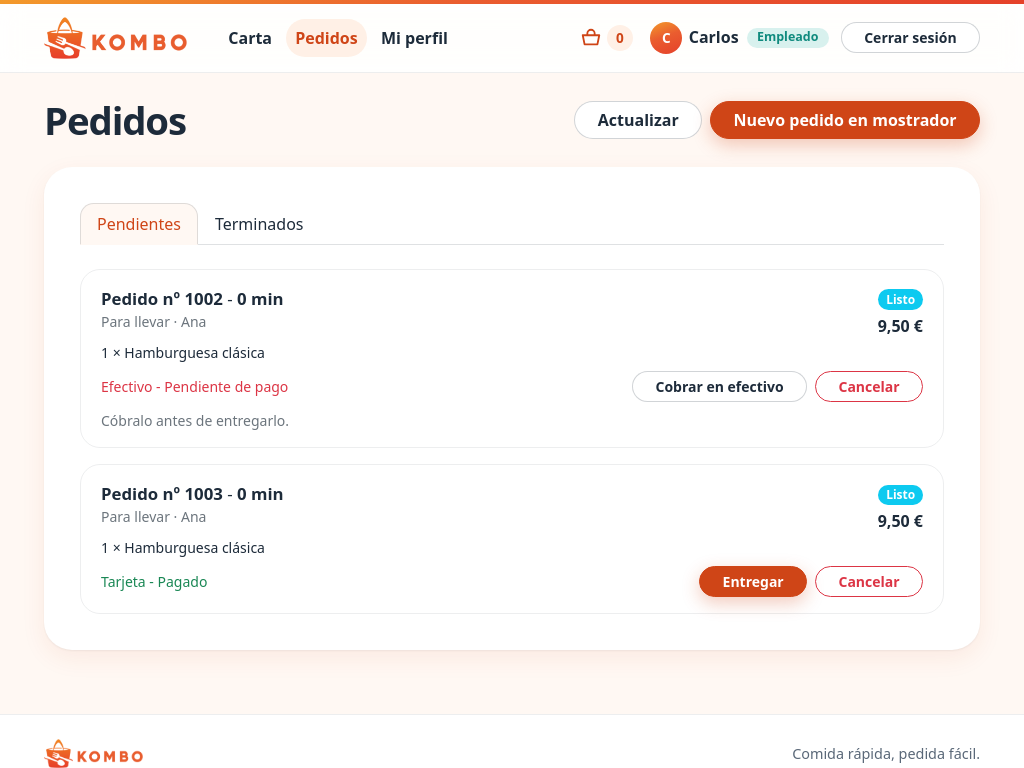
OrdersDashboardPage › charges a cash order before it is delivered
The image size is (1024, 768).
Check: the text "Efectivo - Pendiente de pago" is shown, box [101,376,288,397]
Check: the text "Cóbralo antes de entregarlo." is shown, box [101,411,289,430]
Click the button "Cobrar en efectivo" at (720, 386), box [632,371,807,402]
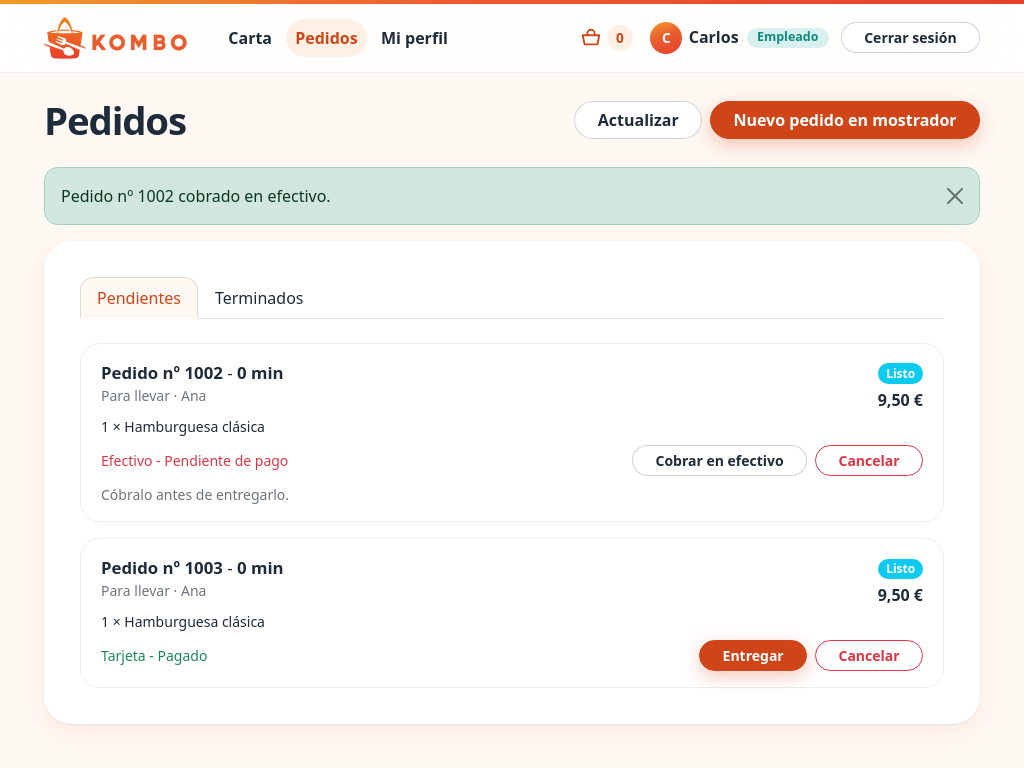
Check: the text "Pedido nº 1002 cobrado en efectivo." is shown, box [44,167,980,225]
Click the button "Entregar" at (753, 656), box [699,640,807,671]
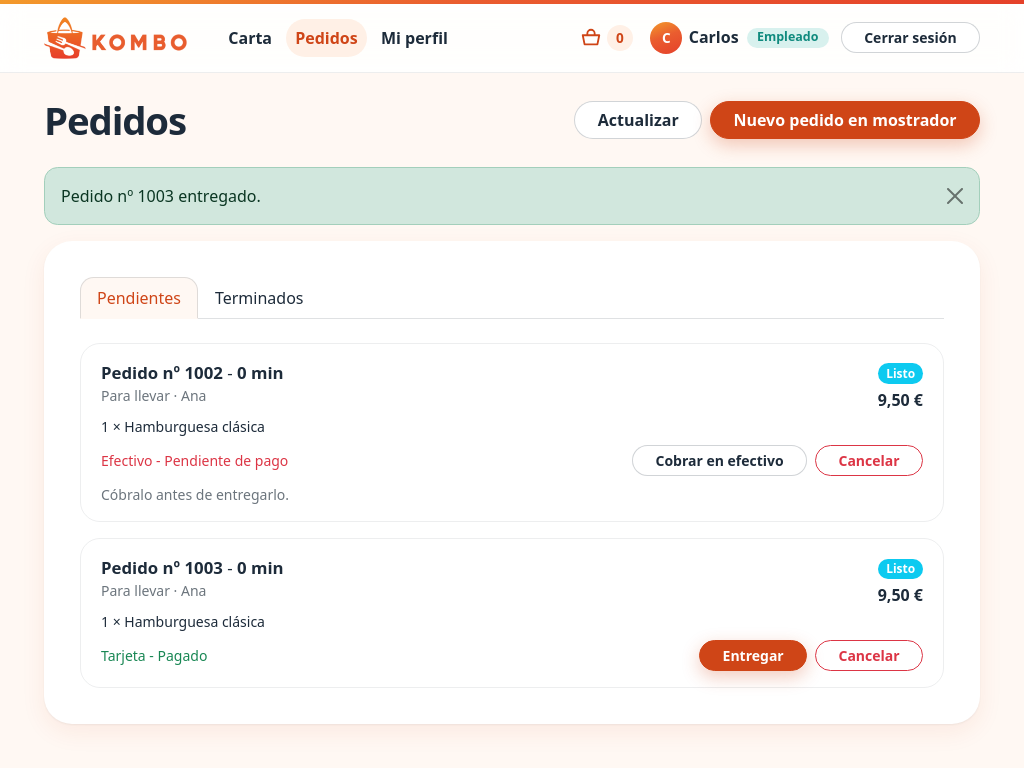
Check: the text "Pedido nº 1003 entregado." is shown, box [44,167,980,225]
